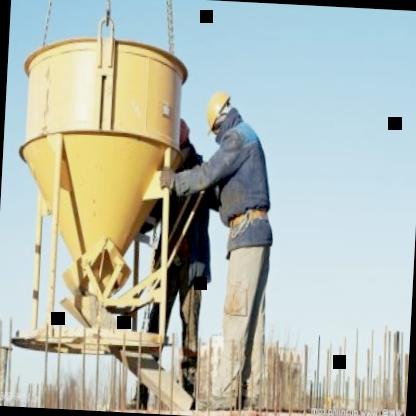helmet: (200, 88, 240, 141), (170, 118, 194, 161)
